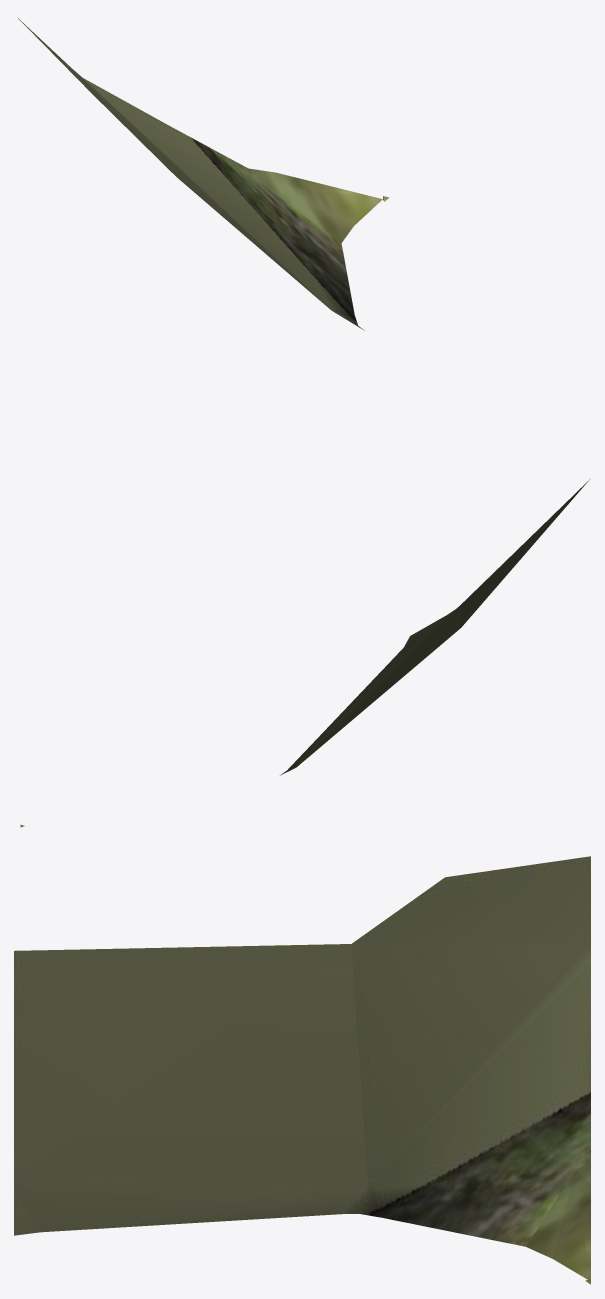
3 views of the same model, one above another, from view 1: azimuth 30°, elevation 25°; view 2: azimuth 150°, elevation 25°; view 3: azimuth 270°, elevation 25° (orthographic). The views are drawn at different scales.
Size of the model in its own units: 2.07 by 1.45 by 2.95.
1 material, 1 textured.
